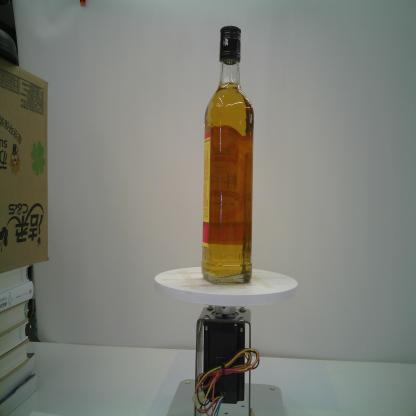Seasoner: (199, 24, 256, 288)
